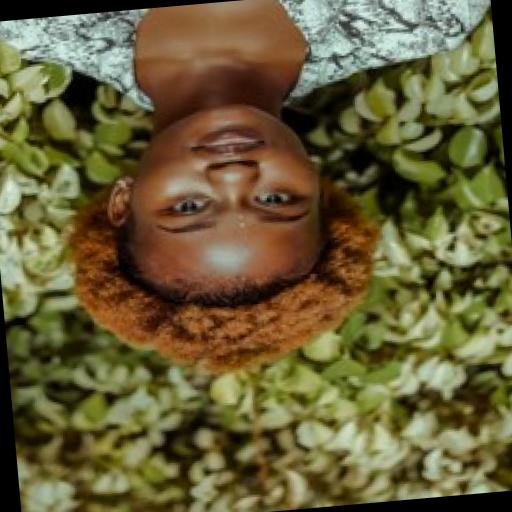human: (0, 0, 512, 390)
